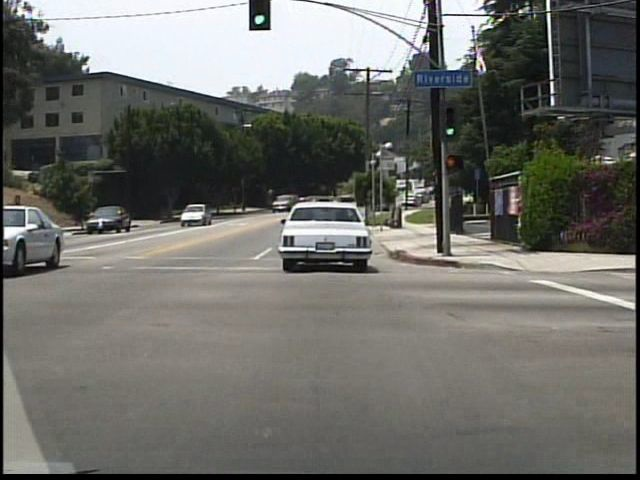person: (101, 205, 112, 231)
